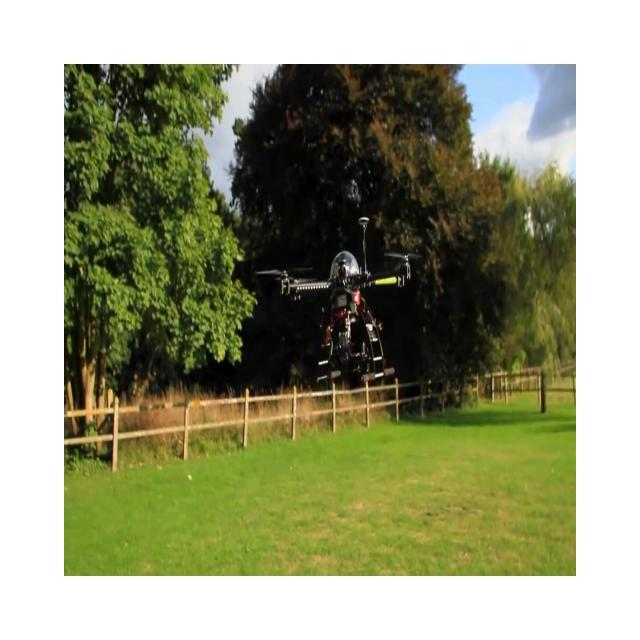drone: (254, 214, 422, 396)
